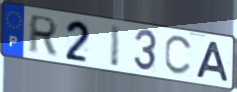2: (62, 18, 92, 66)
3: (131, 28, 159, 74)
A: (194, 40, 231, 84)
C: (163, 35, 195, 77)
I: (109, 23, 122, 69)
R: (26, 13, 60, 57)
